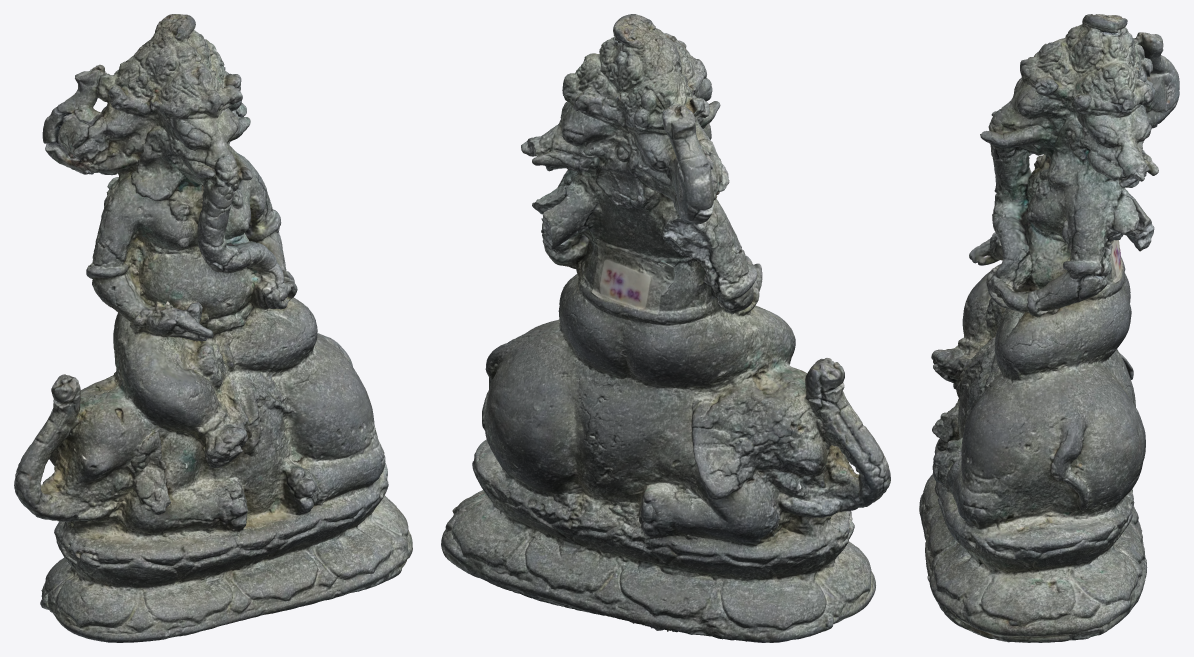
File: ganesha.glb
3 views of the same model, side by side, from view 1: azimuth 30°, elevation 25°; view 2: azimuth 150°, elevation 25°; view 3: azimuth 270°, elevation 25° (orthographic). The views are drawn at different scales.
Parts seen in each view (by area): view 1: Object_6, Object_2, Object_11; view 2: Object_6, Object_2, Object_11; view 3: Object_6, Object_2, Object_11.
Boxes of the visible parts, x1=… form: Object_6: x1=14, y1=31, x2=393, y2=642; Object_2: x1=41, y1=262, x2=412, y2=628; Object_11: x1=24, y1=14, x2=294, y2=621; Object_6: x1=441, y1=28, x2=890, y2=635; Object_2: x1=452, y1=274, x2=854, y2=642; Object_11: x1=521, y1=14, x2=871, y2=632; Object_6: x1=919, y1=24, x2=1179, y2=640; Object_2: x1=919, y1=273, x2=1147, y2=642; Object_11: x1=931, y1=14, x2=1179, y2=450.
Bounding box in the file's own units: 0.6754 × 0.904 × 0.393.
Materials: 3 (3 with a texture image).
